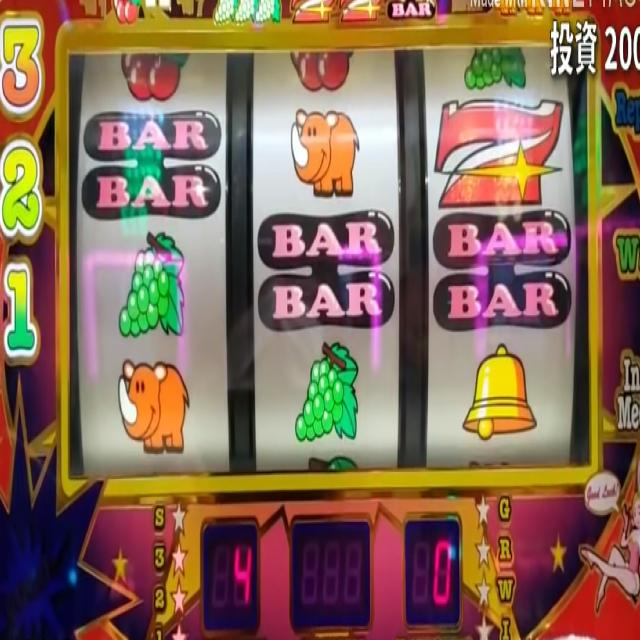bar: (258, 210, 394, 331), (432, 210, 571, 327), (81, 109, 223, 217), (386, 0, 434, 22)
bell: (463, 342, 536, 443)
cherry: (120, 54, 188, 100), (288, 48, 353, 92), (112, 0, 142, 23)
display: (67, 48, 592, 467)
elephant: (119, 358, 192, 453), (291, 109, 359, 197)
grape: (118, 230, 185, 340), (294, 340, 359, 440), (464, 48, 527, 89), (213, 0, 238, 26), (256, 0, 279, 23), (234, 0, 256, 24)
z: (434, 94, 561, 206), (290, 0, 336, 26), (339, 0, 377, 25)
